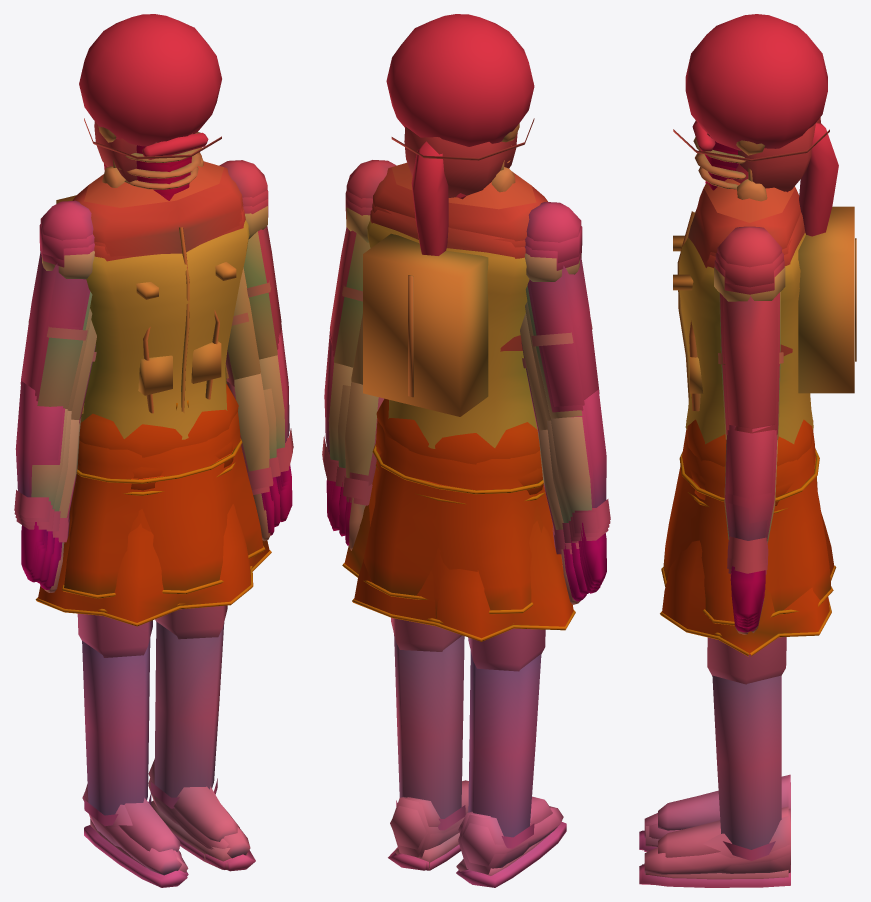
File: people324_lo.glb
3 renders of one model, left to right at view 1: azimuth 30°, elevation 25°; view 2: azimuth 150°, elevation 25°; view 3: azimuth 270°, elevation 25°, orthographic. The views are drawn at different scales.
Parts seen in each view (by area): view 1: fig324-v5, fig324-v7, fig324-v1, fig324-v2, fig324-v0, fig324-v3, fig324-v4, fig324-v6; view 2: fig324-v5, fig324-v7, fig324-v1, fig324-v3, fig324-v2, fig324-v0, fig324-v6, fig324-v4; view 3: fig324-v7, fig324-v5, fig324-v1, fig324-v3, fig324-v2, fig324-v4, fig324-v6, fig324-v0.
Boxes of the visible parts, x1,y1,x2,y2 form: fig324-v5: (16,162,288,869); fig324-v7: (14,14,293,887); fig324-v1: (14,152,292,879); fig324-v2: (35,163,274,872); fig324-v0: (52,132,273,869); fig324-v3: (15,121,290,878); fig324-v4: (44,157,270,861); fig324-v6: (37,118,280,875); fig324-v5: (326,207,608,869); fig324-v7: (322,14,610,887); fig324-v1: (322,191,610,879); fig324-v3: (325,126,609,878); fig324-v2: (342,141,586,875); fig324-v0: (343,160,579,874); fig324-v6: (335,118,588,883); fig324-v4: (346,160,580,870); fig324-v7: (639,14,827,887); fig324-v5: (643,164,816,860); fig324-v1: (640,148,833,887); fig324-v3: (642,117,856,886); fig324-v2: (645,123,838,879); fig324-v4: (648,167,793,850); fig324-v6: (644,129,829,868); fig324-v0: (646,120,788,851).
Size of the model in its own units: 0.6613 by 1.89 by 0.4398.
